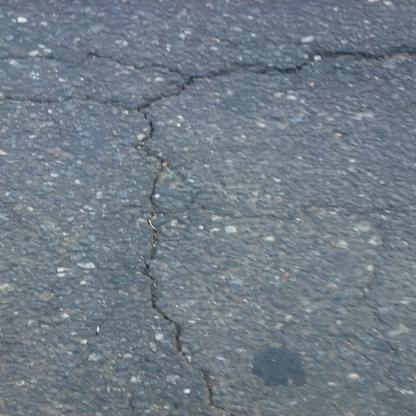Cracks: (112, 104, 233, 416), (0, 39, 416, 117)
